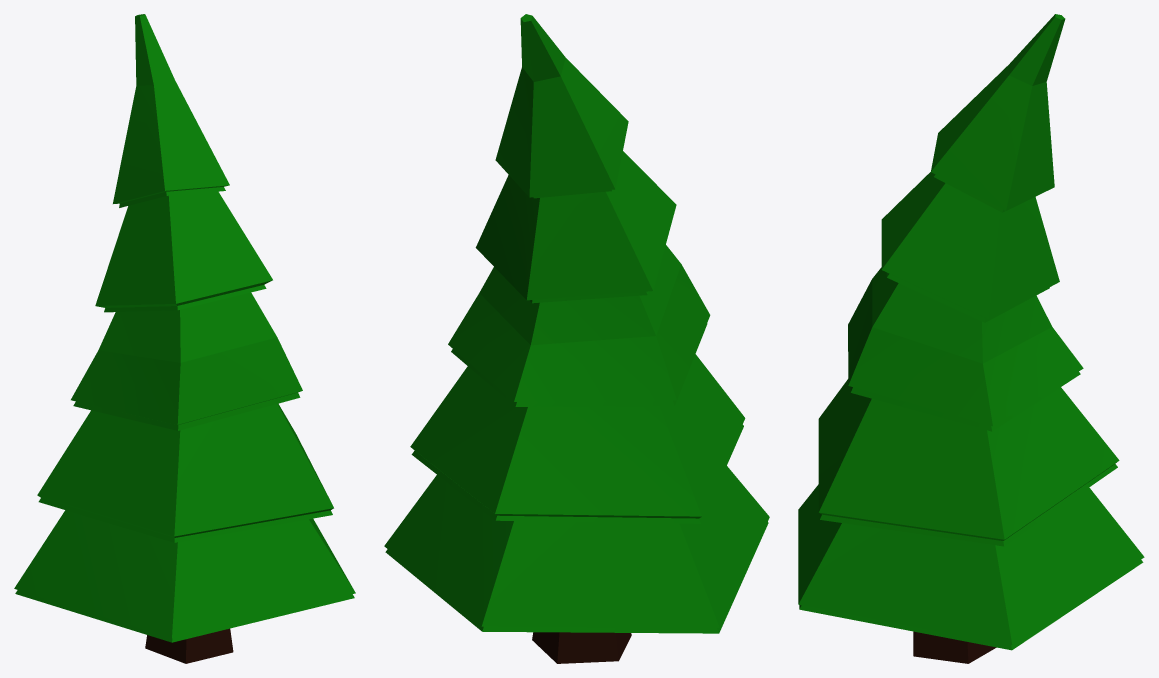
The model's file is plant2.obj.
3 renders of one model, left to right at view 1: azimuth 30°, elevation 25°; view 2: azimuth 150°, elevation 25°; view 3: azimuth 270°, elevation 25°, orthographic. The views are drawn at different scales.
Visible parts, largest first — view 1: Cylinder; view 2: Cylinder; view 3: Cylinder.
Boxes of the visible parts, left/top/right/bottom form: Cylinder: left=14, top=14, right=355, bottom=663; Cylinder: left=384, top=14, right=769, bottom=663; Cylinder: left=798, top=14, right=1144, bottom=663.
Bounding box in the file's own units: 2.04 × 3.89 × 1.94.
